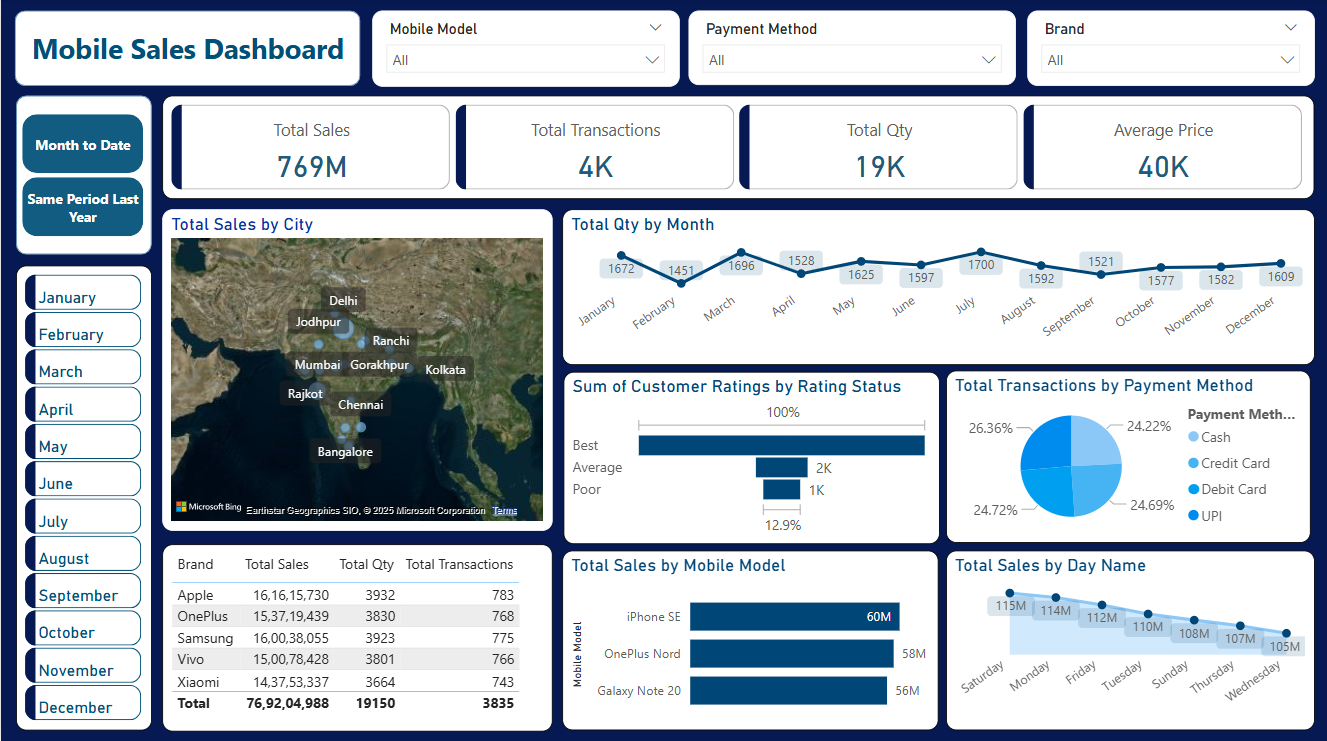

The page's visual inventory and layout, read from the dashboard file:
{"tool":"powerbi","page":{"name":"Mobile Sales Dashboard","canvas":[1280,720],"ordinal":0},"visuals":[{"type":"group","id":"g1","title":"Group 1","box":[13.3,12.1,334.2,73.6],"z":0},{"type":"shape","box":[13.3,12.1,333.8,73.2],"z":0,"group":"g1"},{"type":"shape","box":[14.3,94,131,153.6],"z":1000},{"type":"advancedSlicerVisual","fields":{"Values":["Custom Calender.Date.Variation.Date Hierarchy.Month"]},"box":[14.3,258.3,131,448.8],"z":2000},{"type":"cardVisual","fields":{"Data":["Mobile Sales Data.Total Sales","Mobile Sales Data.Total Transactions","Mobile Sales Data.Total Qty","Mobile Sales Data.Average Price"]},"box":[156,94,1111.9,100],"z":3000},{"type":"slicer","fields":{"Values":["Mobile Sales Data.Brand"]},"box":[990.5,11.9,277.4,72.6],"z":4000},{"type":"slicer","fields":{"Values":["Mobile Sales Data.Payment Method"]},"box":[663.5,12.1,316.1,72.4],"z":5000},{"type":"slicer","fields":{"Values":["Mobile Sales Data.Mobile Model"]},"box":[358.3,11.9,296.4,73.8],"z":6000},{"type":"map","fields":{"Category":["Mobile Sales Data.City"],"Size":["Mobile Sales Data.Total Sales"]},"box":[155.3,203.9,376.8,310.6],"z":7000},{"type":"lineChart","fields":{"Y":["Mobile Sales Data.Total Qty"],"Category":["Custom Calender.Date.Variation.Date Hierarchy.Month"]},"box":[541.7,203.6,726.2,150],"z":8000},{"type":"funnel","fields":{"Category":["Mobile Sales Data.Rating Status"],"Y":["Sum(Mobile Sales Data.Customer Ratings)"]},"box":[542.9,360.7,363.1,166],"z":9000},{"type":"pieChart","fields":{"Y":["Mobile Sales Data.Total Transactions"],"Series":["Mobile Sales Data.Payment Method"]},"box":[911.9,359.5,352.4,166],"z":10000},{"type":"clusteredBarChart","fields":{"Y":["Mobile Sales Data.Total Sales"],"Category":["Mobile Sales Data.Mobile Model"]},"box":[541.7,533.3,363.1,173.8],"z":11000},{"type":"lineChart","fields":{"Y":["Mobile Sales Data.Total Sales"],"Category":["Mobile Sales Data.Day Name"]},"box":[911.9,533.3,356,173.8],"z":12000},{"type":"textbox","box":[20.5,25.3,319.7,45.8],"z":13000},{"type":"tableEx","fields":{"Values":["Mobile Sales Data.Brand","Mobile Sales Data.Total Sales","Mobile Sales Data.Total Qty","Mobile Sales Data.Total Transactions"]},"box":[155.3,526.7,376.8,181],"z":14000},{"type":"pageNavigator","box":[20.5,112.2,117,118.2],"z":15000}]}

Visuals, with their boxes in screenshot pixels (x1, y1, x2, y2), scaled from the page's 1280x720 canvas onto the 1327x741 screenshot:
"Group 1" group: rect(14, 12, 360, 88)
shape: rect(14, 12, 360, 88)
shape: rect(15, 97, 151, 255)
advancedSlicerVisual - Custom Calender.Date.Variation.Date Hierarchy.Month: rect(15, 266, 151, 728)
cardVisual - Mobile Sales Data.Total Sales x Mobile Sales Data.Total Transactions: rect(162, 97, 1314, 200)
slicer - Mobile Sales Data.Brand: rect(1027, 12, 1314, 87)
slicer - Mobile Sales Data.Payment Method: rect(688, 12, 1016, 87)
slicer - Mobile Sales Data.Mobile Model: rect(371, 12, 679, 88)
map - Mobile Sales Data.City x Mobile Sales Data.Total Sales: rect(161, 210, 552, 530)
lineChart - Mobile Sales Data.Total Qty x Custom Calender.Date.Variation.Date Hierarchy.Month: rect(562, 210, 1314, 364)
funnel - Mobile Sales Data.Rating Status x Sum(Mobile Sales Data.Customer Ratings): rect(563, 371, 939, 542)
pieChart - Mobile Sales Data.Total Transactions x Mobile Sales Data.Payment Method: rect(945, 370, 1311, 541)
clusteredBarChart - Mobile Sales Data.Total Sales x Mobile Sales Data.Mobile Model: rect(562, 549, 938, 728)
lineChart - Mobile Sales Data.Total Sales x Mobile Sales Data.Day Name: rect(945, 549, 1314, 728)
textbox: rect(21, 26, 353, 73)
tableEx - Mobile Sales Data.Brand x Mobile Sales Data.Total Sales: rect(161, 542, 552, 728)
pageNavigator: rect(21, 115, 143, 237)
